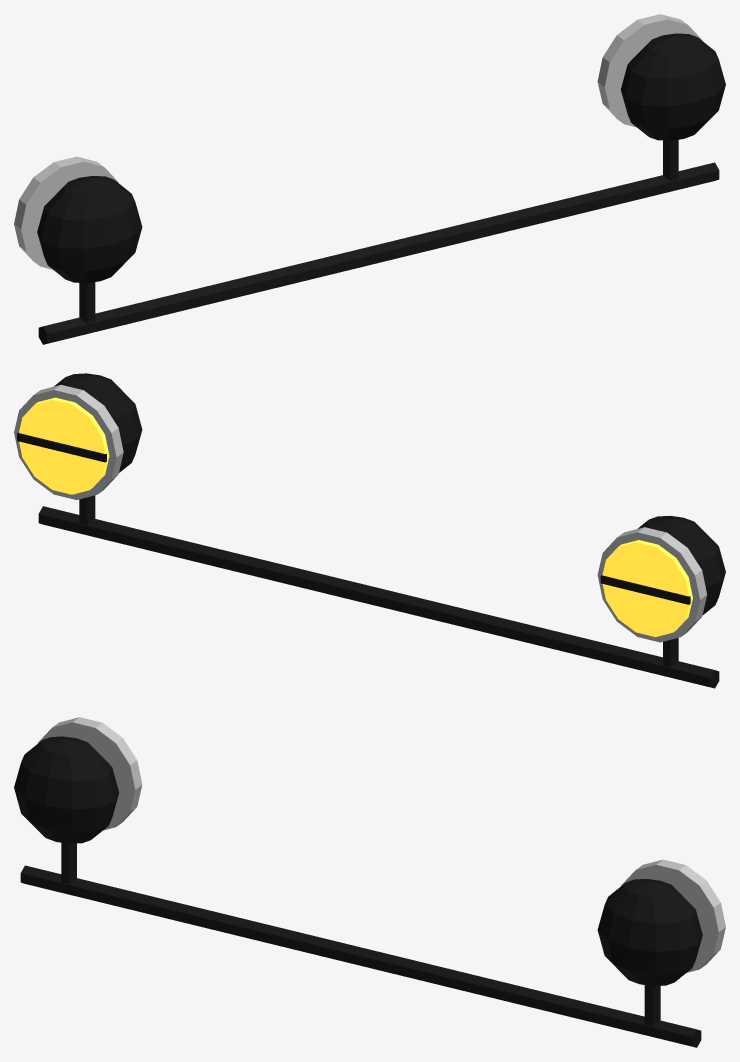
File: foglamps_yellow.glb
The picture shows the model from 3 angles, top to bottom: view 1: azimuth 30°, elevation 25°; view 2: azimuth 150°, elevation 25°; view 3: azimuth 330°, elevation 25°; orthographic projection.
Parts seen in each view (by area): view 1: FogLamps; view 2: FogLamps; view 3: FogLamps.
Boxes of the visible parts, <box> form: FogLamps: <box>14,14,725,344</box>; FogLamps: <box>14,373,725,688</box>; FogLamps: <box>14,717,725,1047</box>.
Bounding box in the file's own units: 0.776 × 0.1715 × 0.0973.
